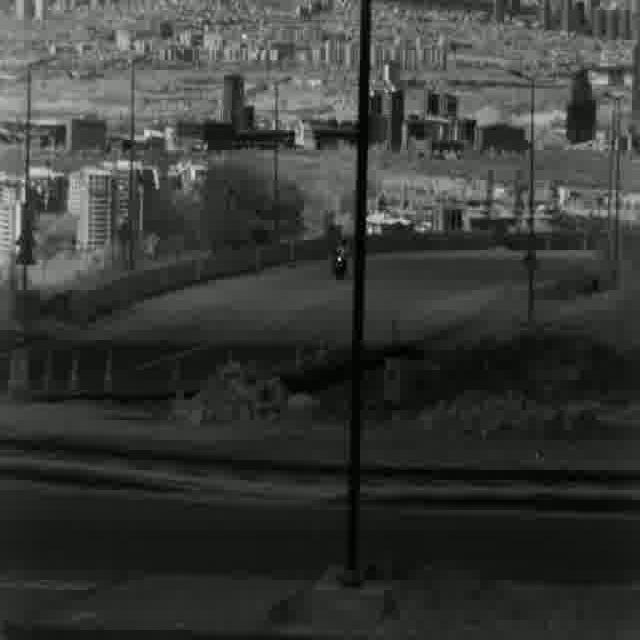Motorcycle: (328, 240, 348, 280)
